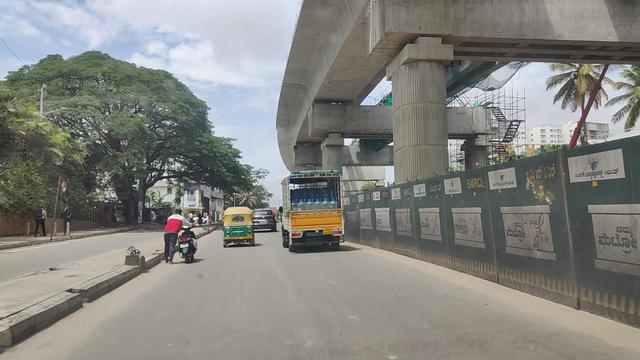HMV: (285, 172, 342, 253)
LMV: (224, 206, 256, 246)
